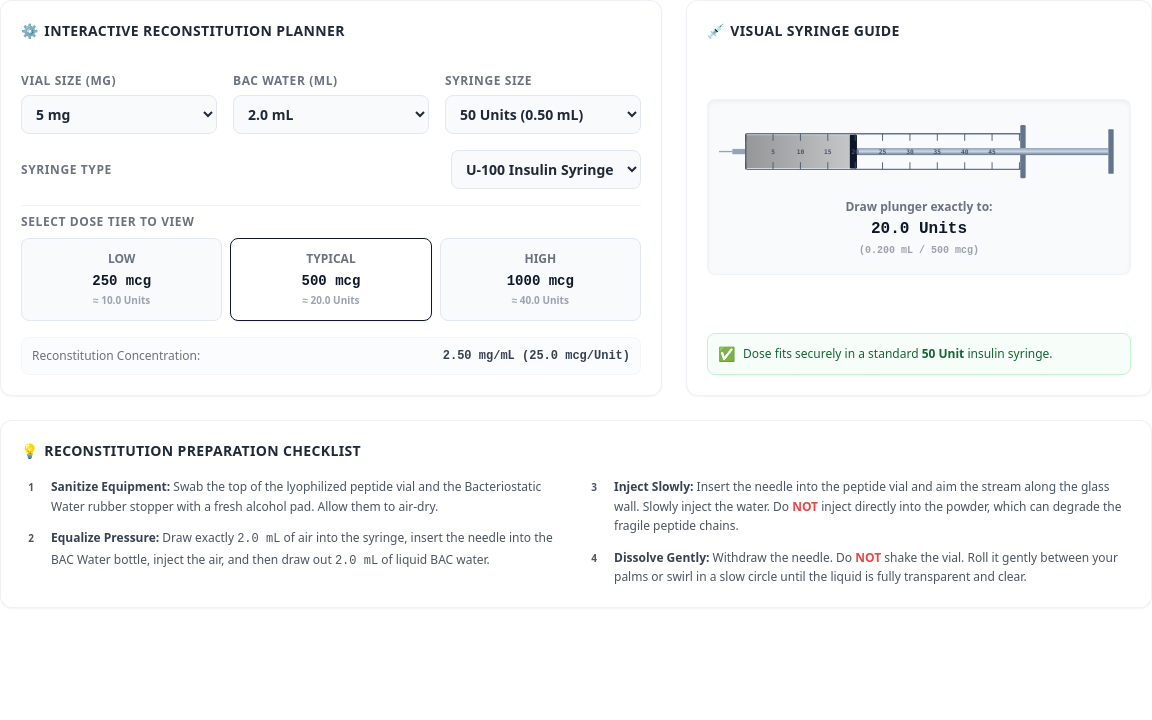
Test: DosingReconstitutionPlanner Client Component › re-calculates correctly when High tier is clicked
The width and height of the screenshot is (1152, 720).
Click the button with id "dose-tier-high" at (540, 280), box [440,238,641,321]
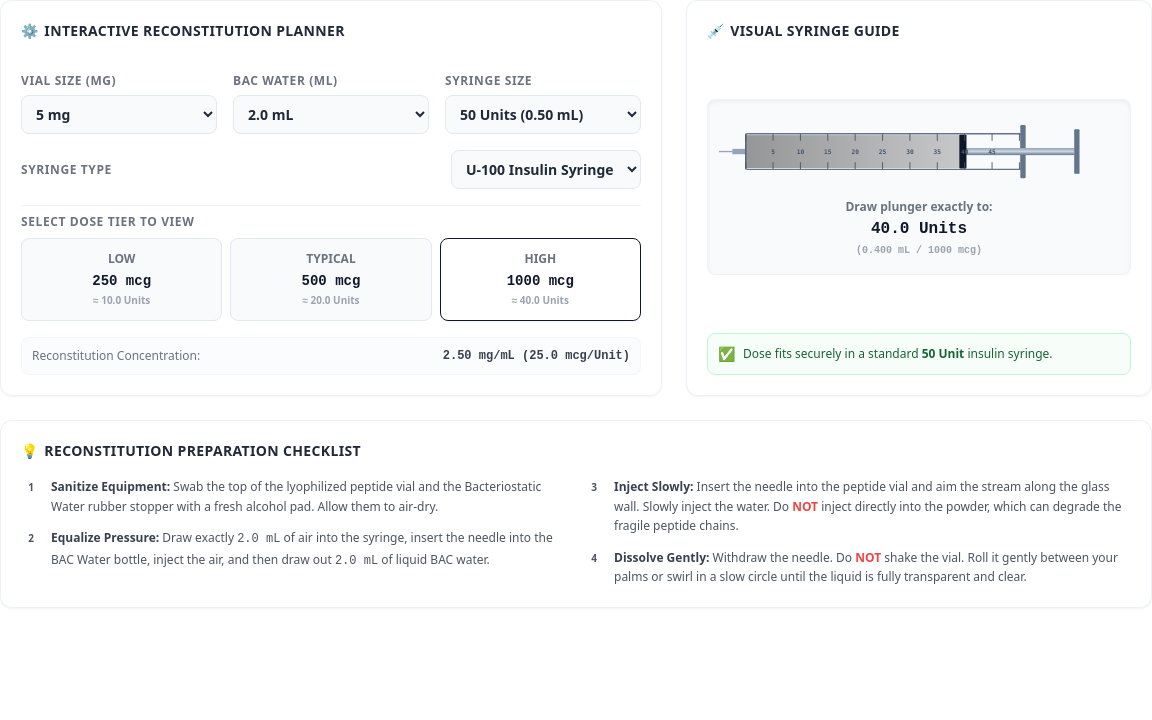
expect the text with id "draw-units-text" reads "40.0 Units": met, box [871,220,967,238]
